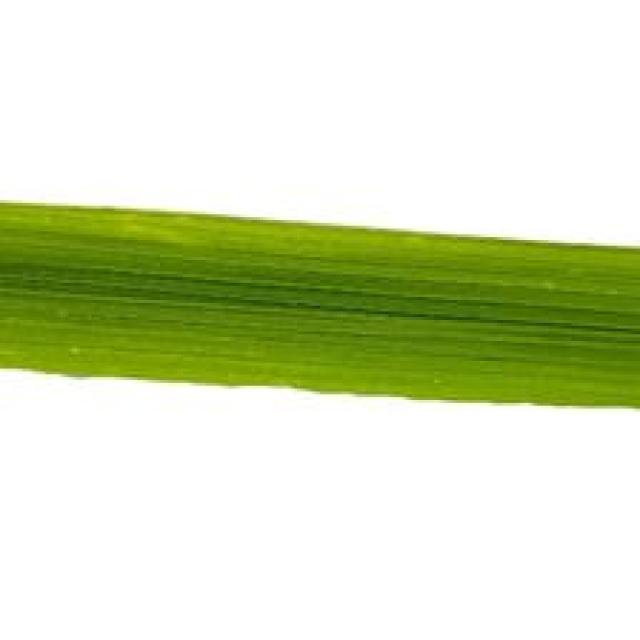Rice___Healthy_Rice_Plant: (0, 199, 637, 412)
